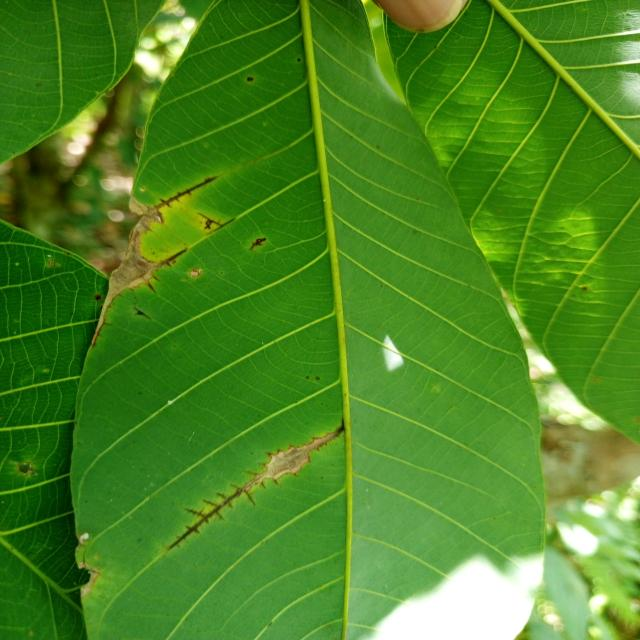Corynespora: (167, 417, 346, 551), (143, 176, 220, 217), (199, 211, 236, 234), (160, 247, 191, 269)
Leaf-Blight: (91, 197, 159, 344)
